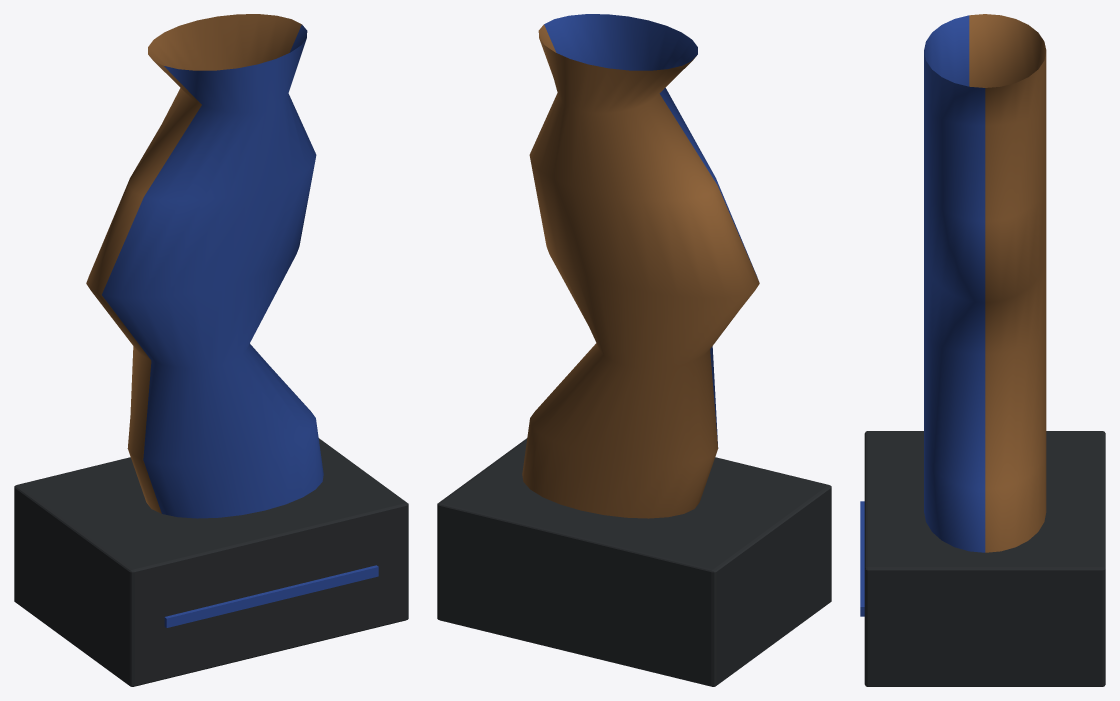
3 renders of one model, left to right at view 1: azimuth 30°, elevation 25°; view 2: azimuth 150°, elevation 25°; view 3: azimuth 270°, elevation 25°, orthographic.
Visible parts, largest first — view 1: TI038 / Artemian abstract curved sculpture, TI038 / black plinth, TI038 / cyan pedestal inlay; view 2: TI038 / Artemian abstract curved sculpture, TI038 / black plinth; view 3: TI038 / Artemian abstract curved sculpture, TI038 / black plinth, TI038 / cyan pedestal inlay.
Boxes of the visible parts, bbox=[...] form: TI038 / Artemian abstract curved sculpture: bbox=[86, 14, 323, 518]; TI038 / black plinth: bbox=[14, 438, 408, 686]; TI038 / cyan pedestal inlay: bbox=[164, 565, 378, 627]; TI038 / Artemian abstract curved sculpture: bbox=[522, 14, 759, 518]; TI038 / black plinth: bbox=[437, 438, 831, 686]; TI038 / Artemian abstract curved sculpture: bbox=[924, 14, 1046, 552]; TI038 / black plinth: bbox=[864, 431, 1105, 686]; TI038 / cyan pedestal inlay: bbox=[860, 501, 864, 616].
Bounding box in the file's own units: 1.5 × 2.9 × 1.12.
